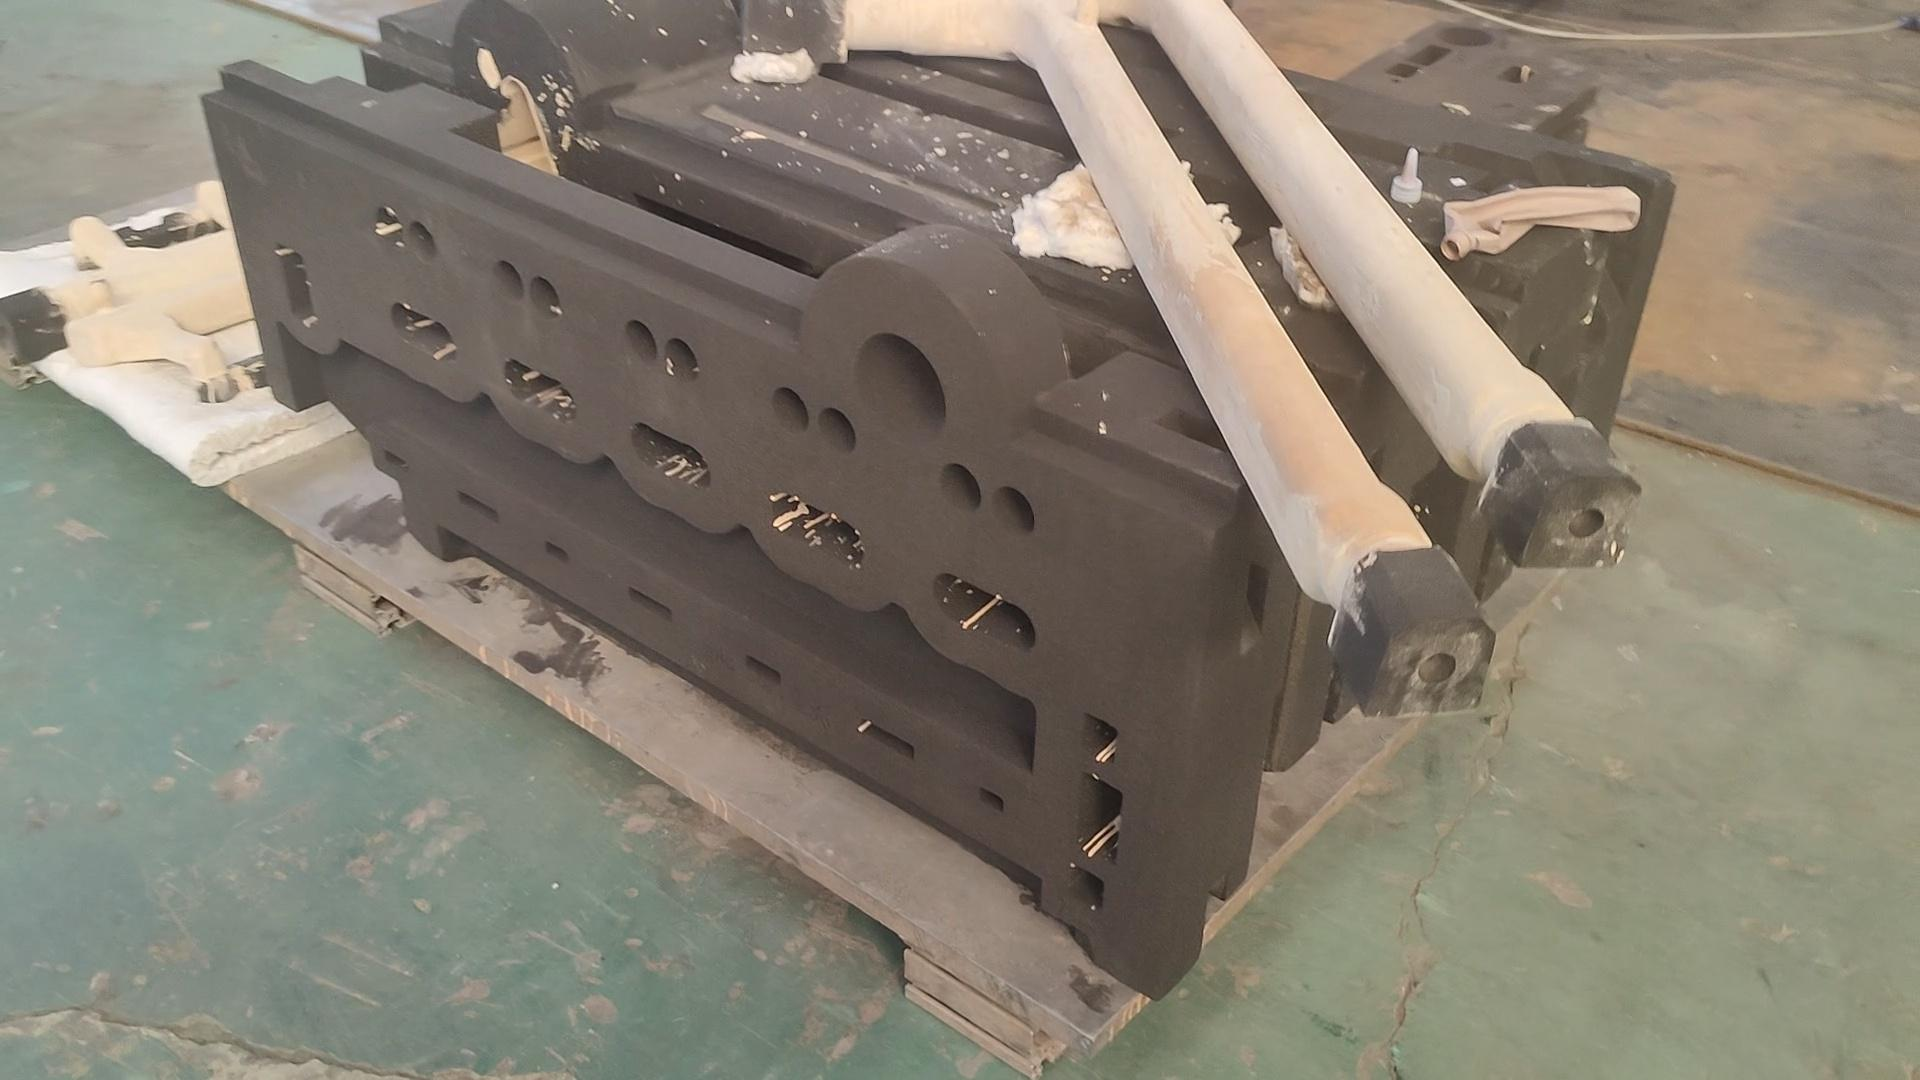pouring hole: (853, 334, 948, 443), (1432, 24, 1495, 46)
